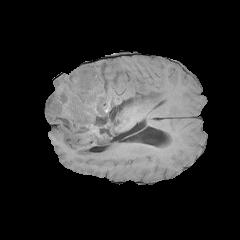glioma: (46, 59, 174, 164)
